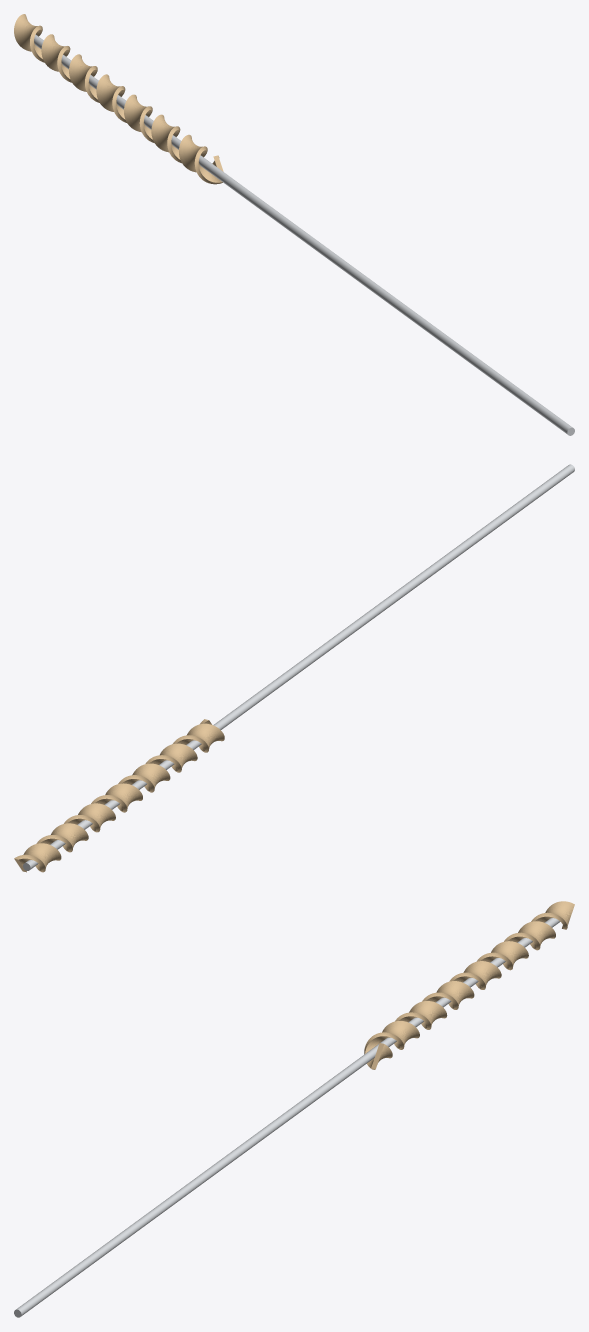
File: mandrel_with_coil.glb
The picture shows the model from 3 angles, top to bottom: view 1: azimuth 30°, elevation 25°; view 2: azimuth 150°, elevation 25°; view 3: azimuth 330°, elevation 25°; orthographic projection.
Parts seen in each view (by area): view 1: body, mandrel; view 2: body, mandrel; view 3: body, mandrel.
Boxes of the visible parts, x1,y1,x2,y2 form: body: (14,14,223,184); mandrel: (34,34,574,435); body: (14,719,224,872); mandrel: (23,464,574,870); body: (364,901,574,1069); mandrel: (14,918,560,1317).
Bounding box in the file's own units: 2.64 × 2.64 × 101.
